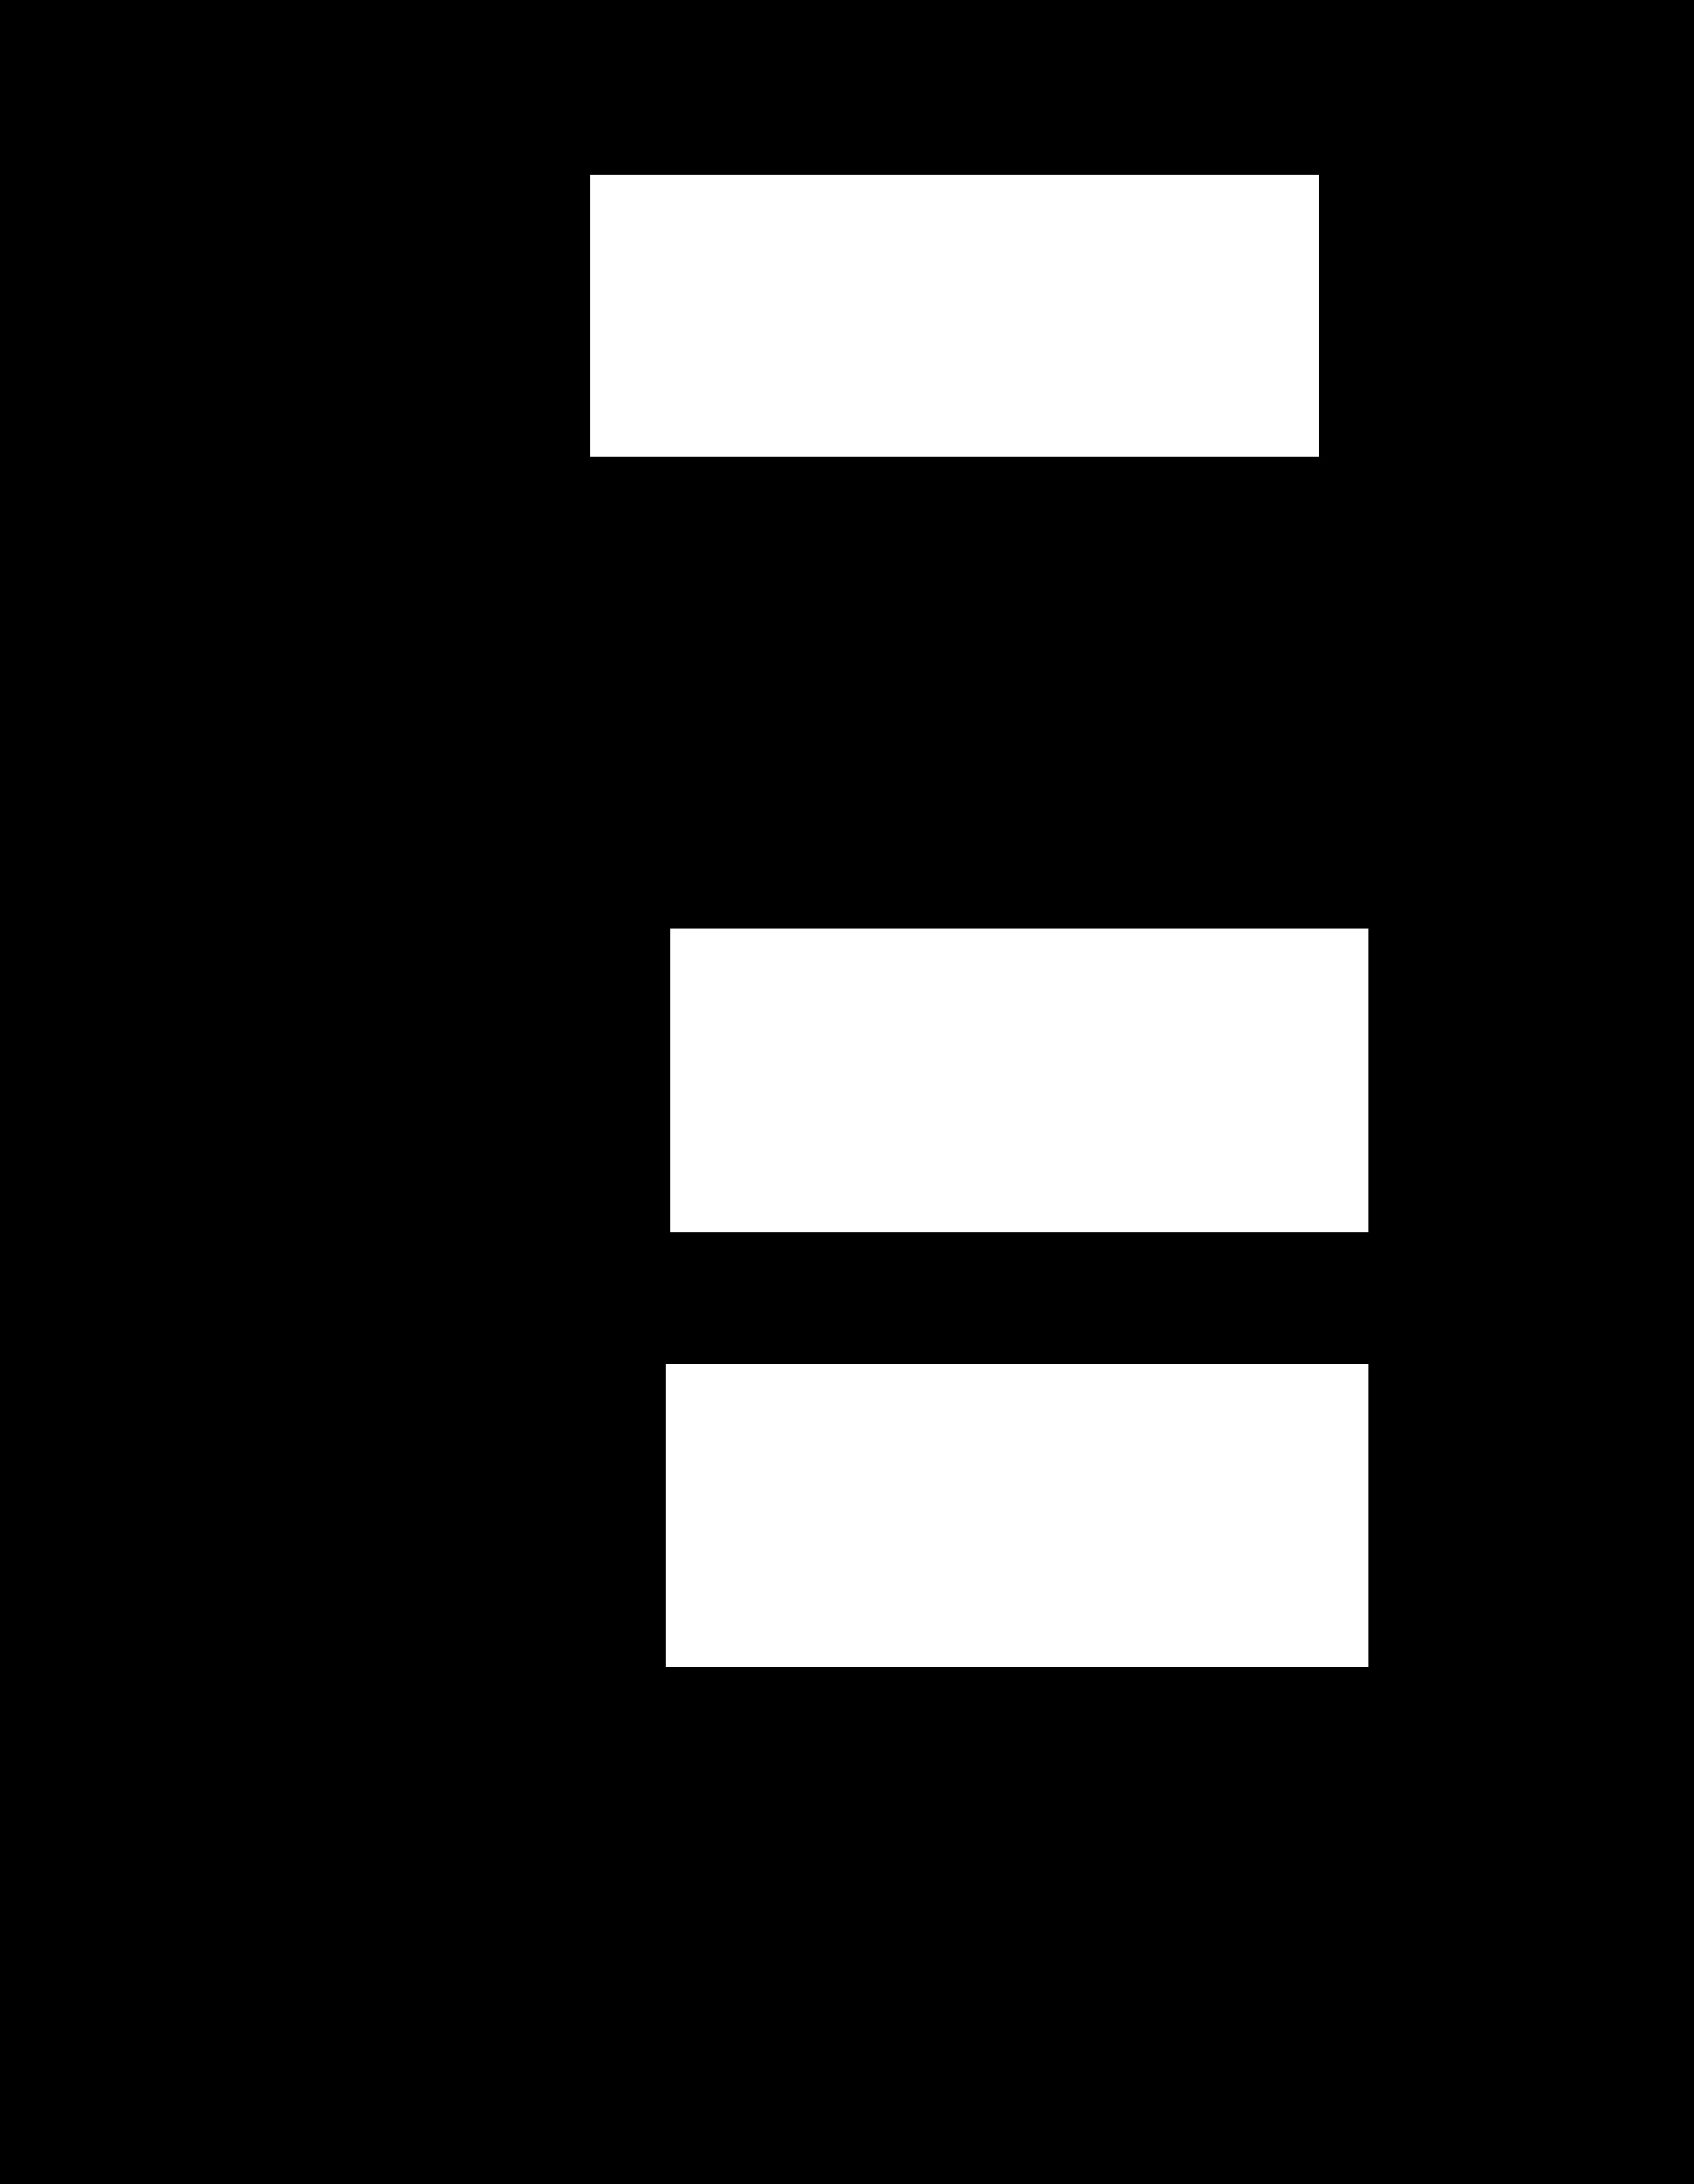table: (666, 1363, 1368, 1666), (670, 929, 1368, 1232), (590, 175, 1318, 456)
